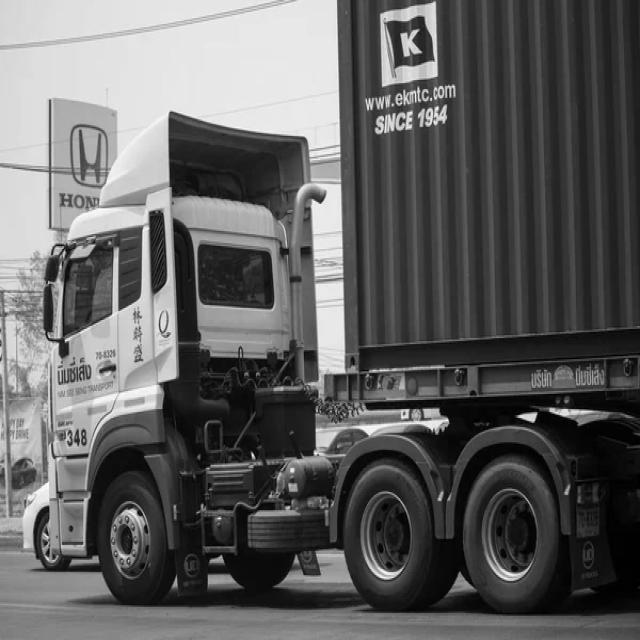Truck: (42, 113, 640, 606)
